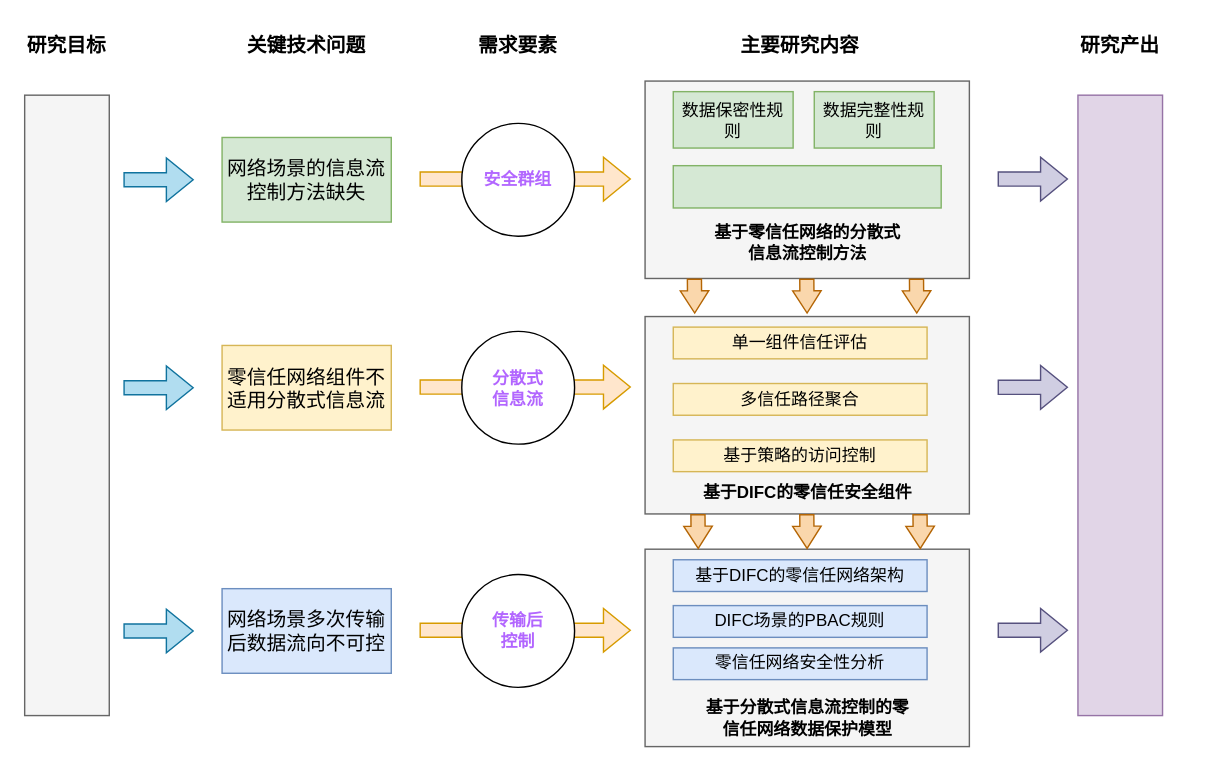
Some shapes in this 1215 by 771 pixel diagram are drawn without their labels. Each missing label, with the centre of its shape:
"基于分散式信息流控制的零信任网络数据保护系统" belongs at (1120,405).
"提高零信任网络架构中内部数据传输的安全性与灵活性" belongs at (66,405).
"网络标签控制规则" belongs at (806,186).
